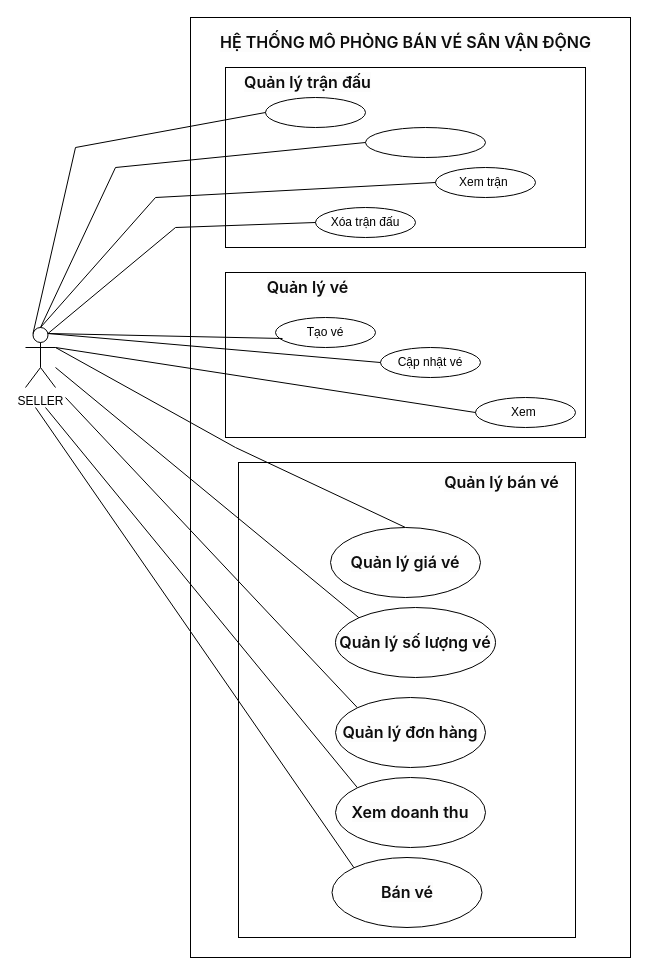
Some shapes in this 648 by 975 pixel diagram are drawn without their labels. The centre of each missing label's shape, as x and y in pixels:
"Cập nhật trận đấu" goes at point (425, 142).
"Thêm trận đấu" goes at point (315, 112).
